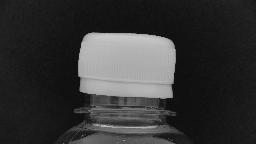Broken Cap: (64, 29, 184, 118)
Loose Cap: (68, 76, 178, 116)
